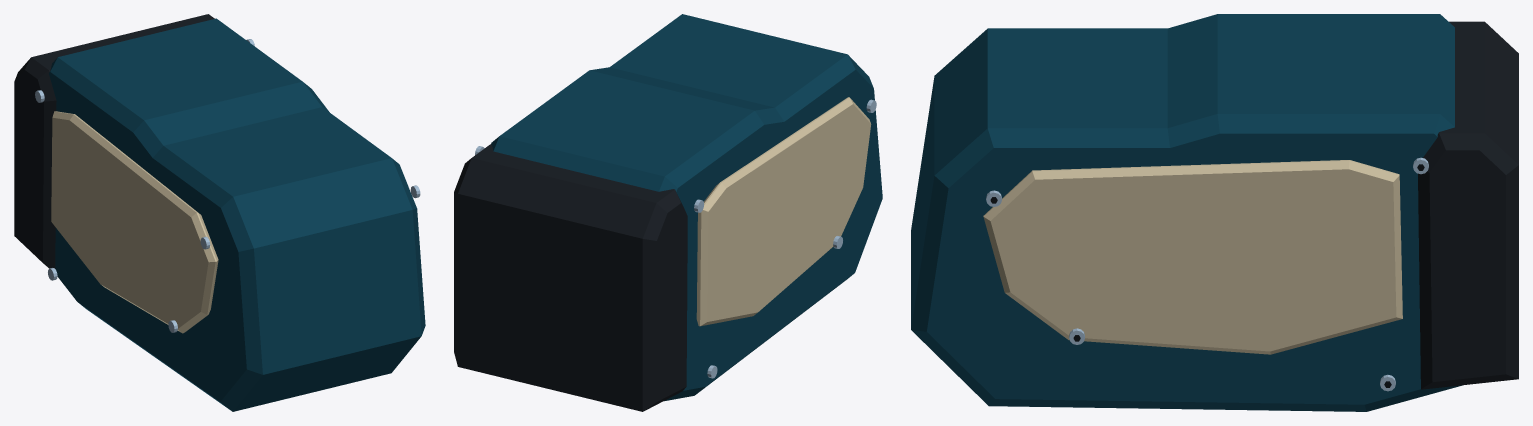
The model's file is NailgunBlue_Evolved_Body.obj.
The picture shows the model from 3 angles, left to right: view 1: azimuth 30°, elevation 25°; view 2: azimuth 150°, elevation 25°; view 3: azimuth 270°, elevation 25°; orthographic projection. The views are drawn at different scales.
Parts seen in each view (by area): view 1: PetrolBlue, Ivory, FrameBlack, Steel; view 2: FrameBlack, PetrolBlue, Ivory, Steel; view 3: PetrolBlue, Ivory, FrameBlack, Steel.
Boxes of the visible parts, bbox=[...] form: PetrolBlue: bbox=[49, 18, 425, 411]; Ivory: bbox=[51, 111, 218, 333]; FrameBlack: bbox=[14, 14, 214, 268]; Steel: bbox=[35, 39, 420, 332]; FrameBlack: bbox=[454, 144, 687, 411]; PetrolBlue: bbox=[491, 14, 882, 401]; Ivory: bbox=[696, 97, 871, 326]; Steel: bbox=[475, 99, 876, 378]; PetrolBlue: bbox=[911, 14, 1462, 411]; Ivory: bbox=[983, 160, 1402, 354]; FrameBlack: bbox=[1418, 21, 1518, 389]; Steel: bbox=[986, 157, 1428, 391].
Size of the model in its own units: 0.301 by 0.309 by 0.571.
